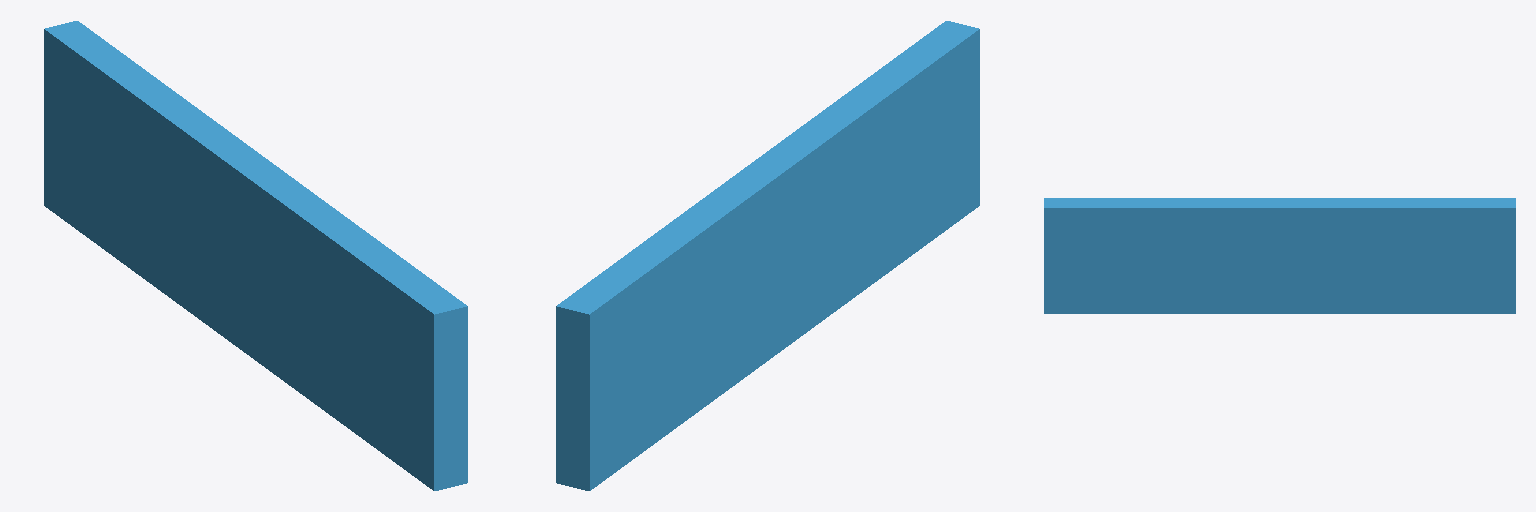
The robot description file, URDF, robot "goal_a":
<?xml version="1.0" ?>
<!-- =================================================================================== -->
<!-- |    This document was autogenerated by xacro from [local-path]/catkin_ws/src/rktl_3/rktl_sim/urdf/goal_a.urdf.xacro | -->
<!-- |    EDITING THIS FILE BY HAND IS NOT RECOMMENDED                                 | -->
<!-- =================================================================================== -->
<robot name="goal_a">
  <!-- Base frame of goal -->
  <link name="base_link">
    <inertial>
      <mass value="0"/>
      <inertia ixx="0.2" ixy="0" ixz="0" iyy="0.2" iyz="0.0" izz="0.2"/>
    </inertial>
  </link>
  <link name="goal_link">
    <visual>
      <geometry>
        <box size="0.05 1.0 0.25"/>
      </geometry>
    </visual>
    <collision>
      <geometry>
        <box size="0.05 1.0 0.25"/>
      </geometry>
    </collision>
  </link>
  <joint name="goal_joint" type="fixed">
    <origin rpy="0 0 0" xyz="2.3 0 0"/>
    <parent link="base_link"/>
    <child link="goal_link"/>
  </joint>
</robot>

--- What the picture shows (computed from the rendered views, not written in the file) ---
Views: 3 orthographic renders of the robot side by side, from view 1: azimuth 30°, elevation 25°; view 2: azimuth 150°, elevation 25°; view 3: azimuth 270°, elevation 25°.
Robot: goal_a — 2 links, 1 joints (1 fixed); root link base_link; default pose: all joints at 0.
Links seen in each view (by area): view 1: goal_link; view 2: goal_link; view 3: goal_link.
Boxes of the visible links, <box> form: goal_link: <box>44,21,467,490</box>; goal_link: <box>556,21,979,490</box>; goal_link: <box>1044,198,1515,313</box>.
Bounding box of the posed robot: 0.05 × 1 × 0.25 m (x, y, z).
Geometry: primitives only (box / cylinder / sphere), no mesh files.